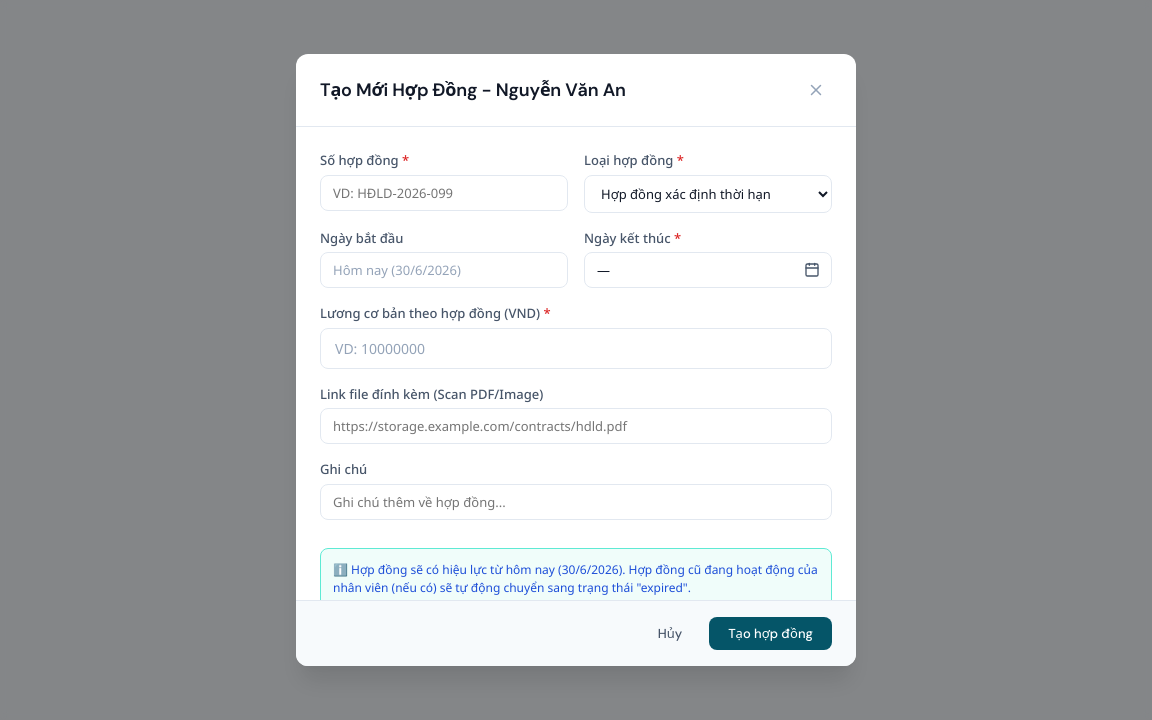
Scenario: ContractFormModal › validates required fields
// Clear contract_no
Clear the field labelled "Số hợp đồng *". click: (444, 192)
box: [320,174,568,210]
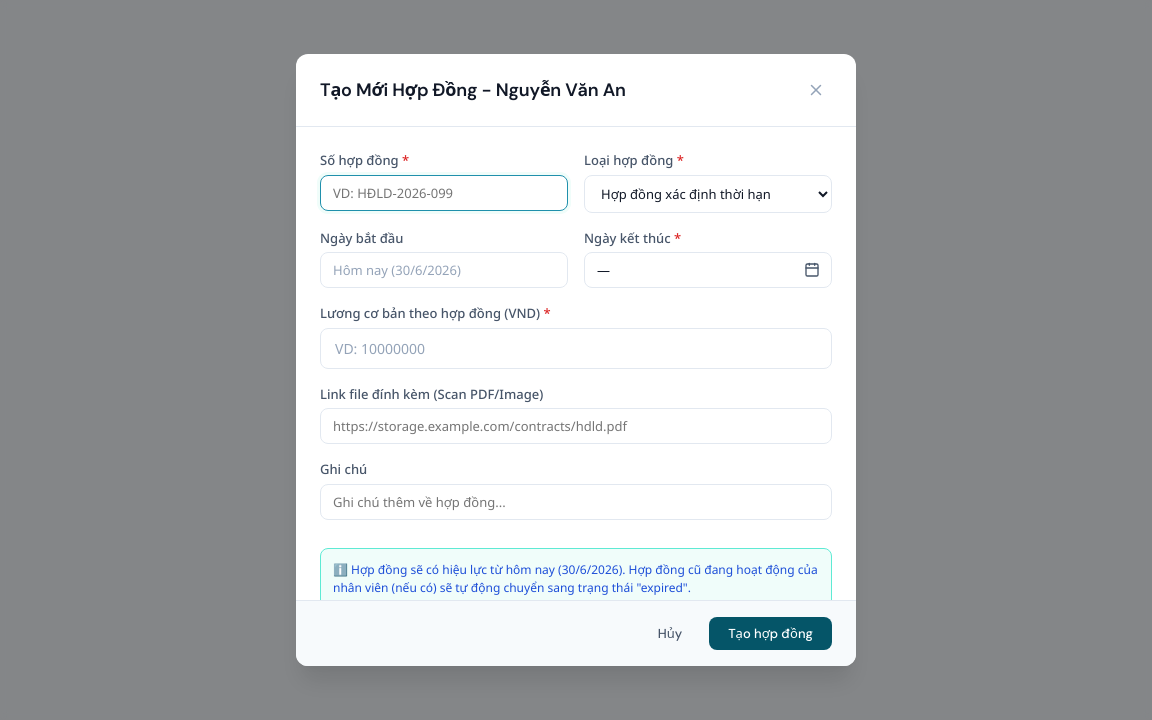
Click the button "Tạo hợp đồng". click: click(771, 634)
box: [709,617,832,650]
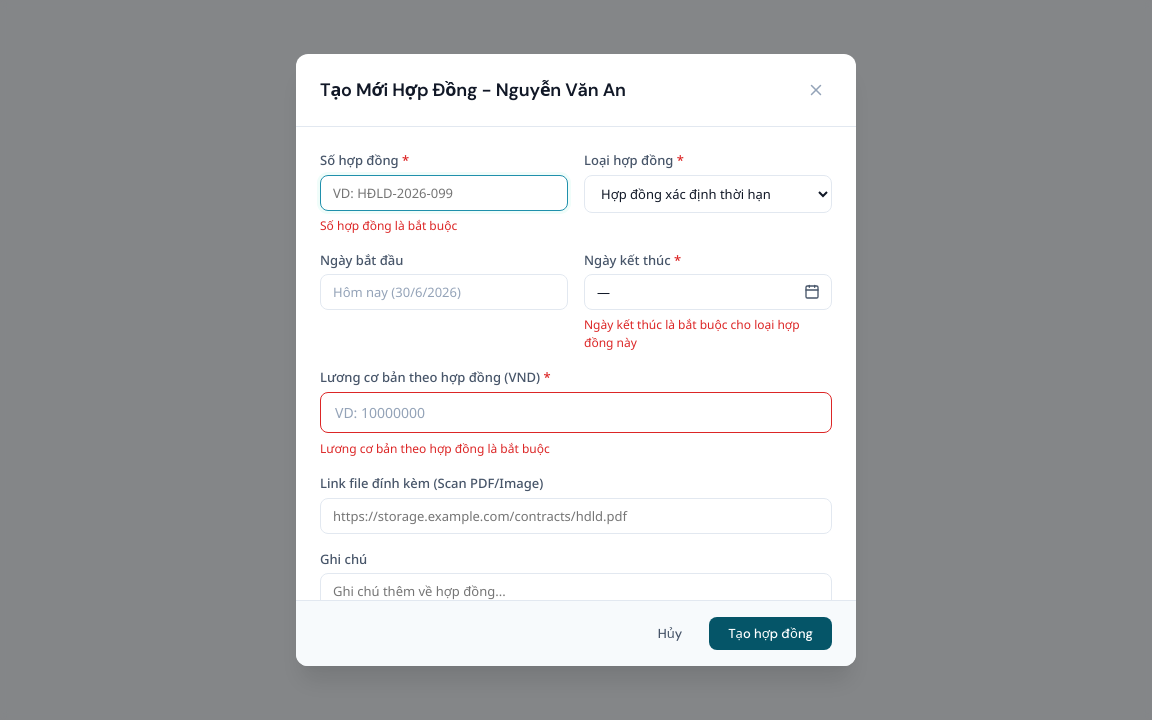
Now the text "Số hợp đồng là bắt buộc" is shown, box [320,216,457,234]
Now the text "Lương cơ bản theo hợp đồng là bắt buộc" is shown, box [320,440,550,456]
